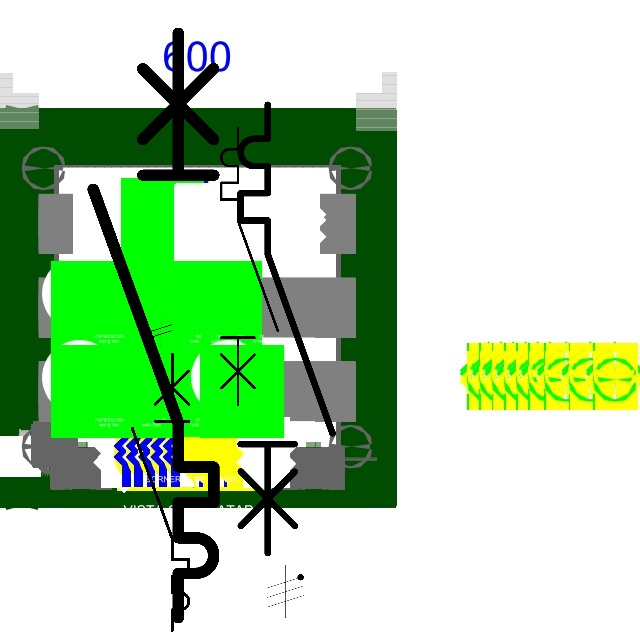interruptor_termomagnetico: (78, 18, 229, 633), (229, 93, 344, 564), (125, 346, 196, 637), (214, 121, 285, 412)
